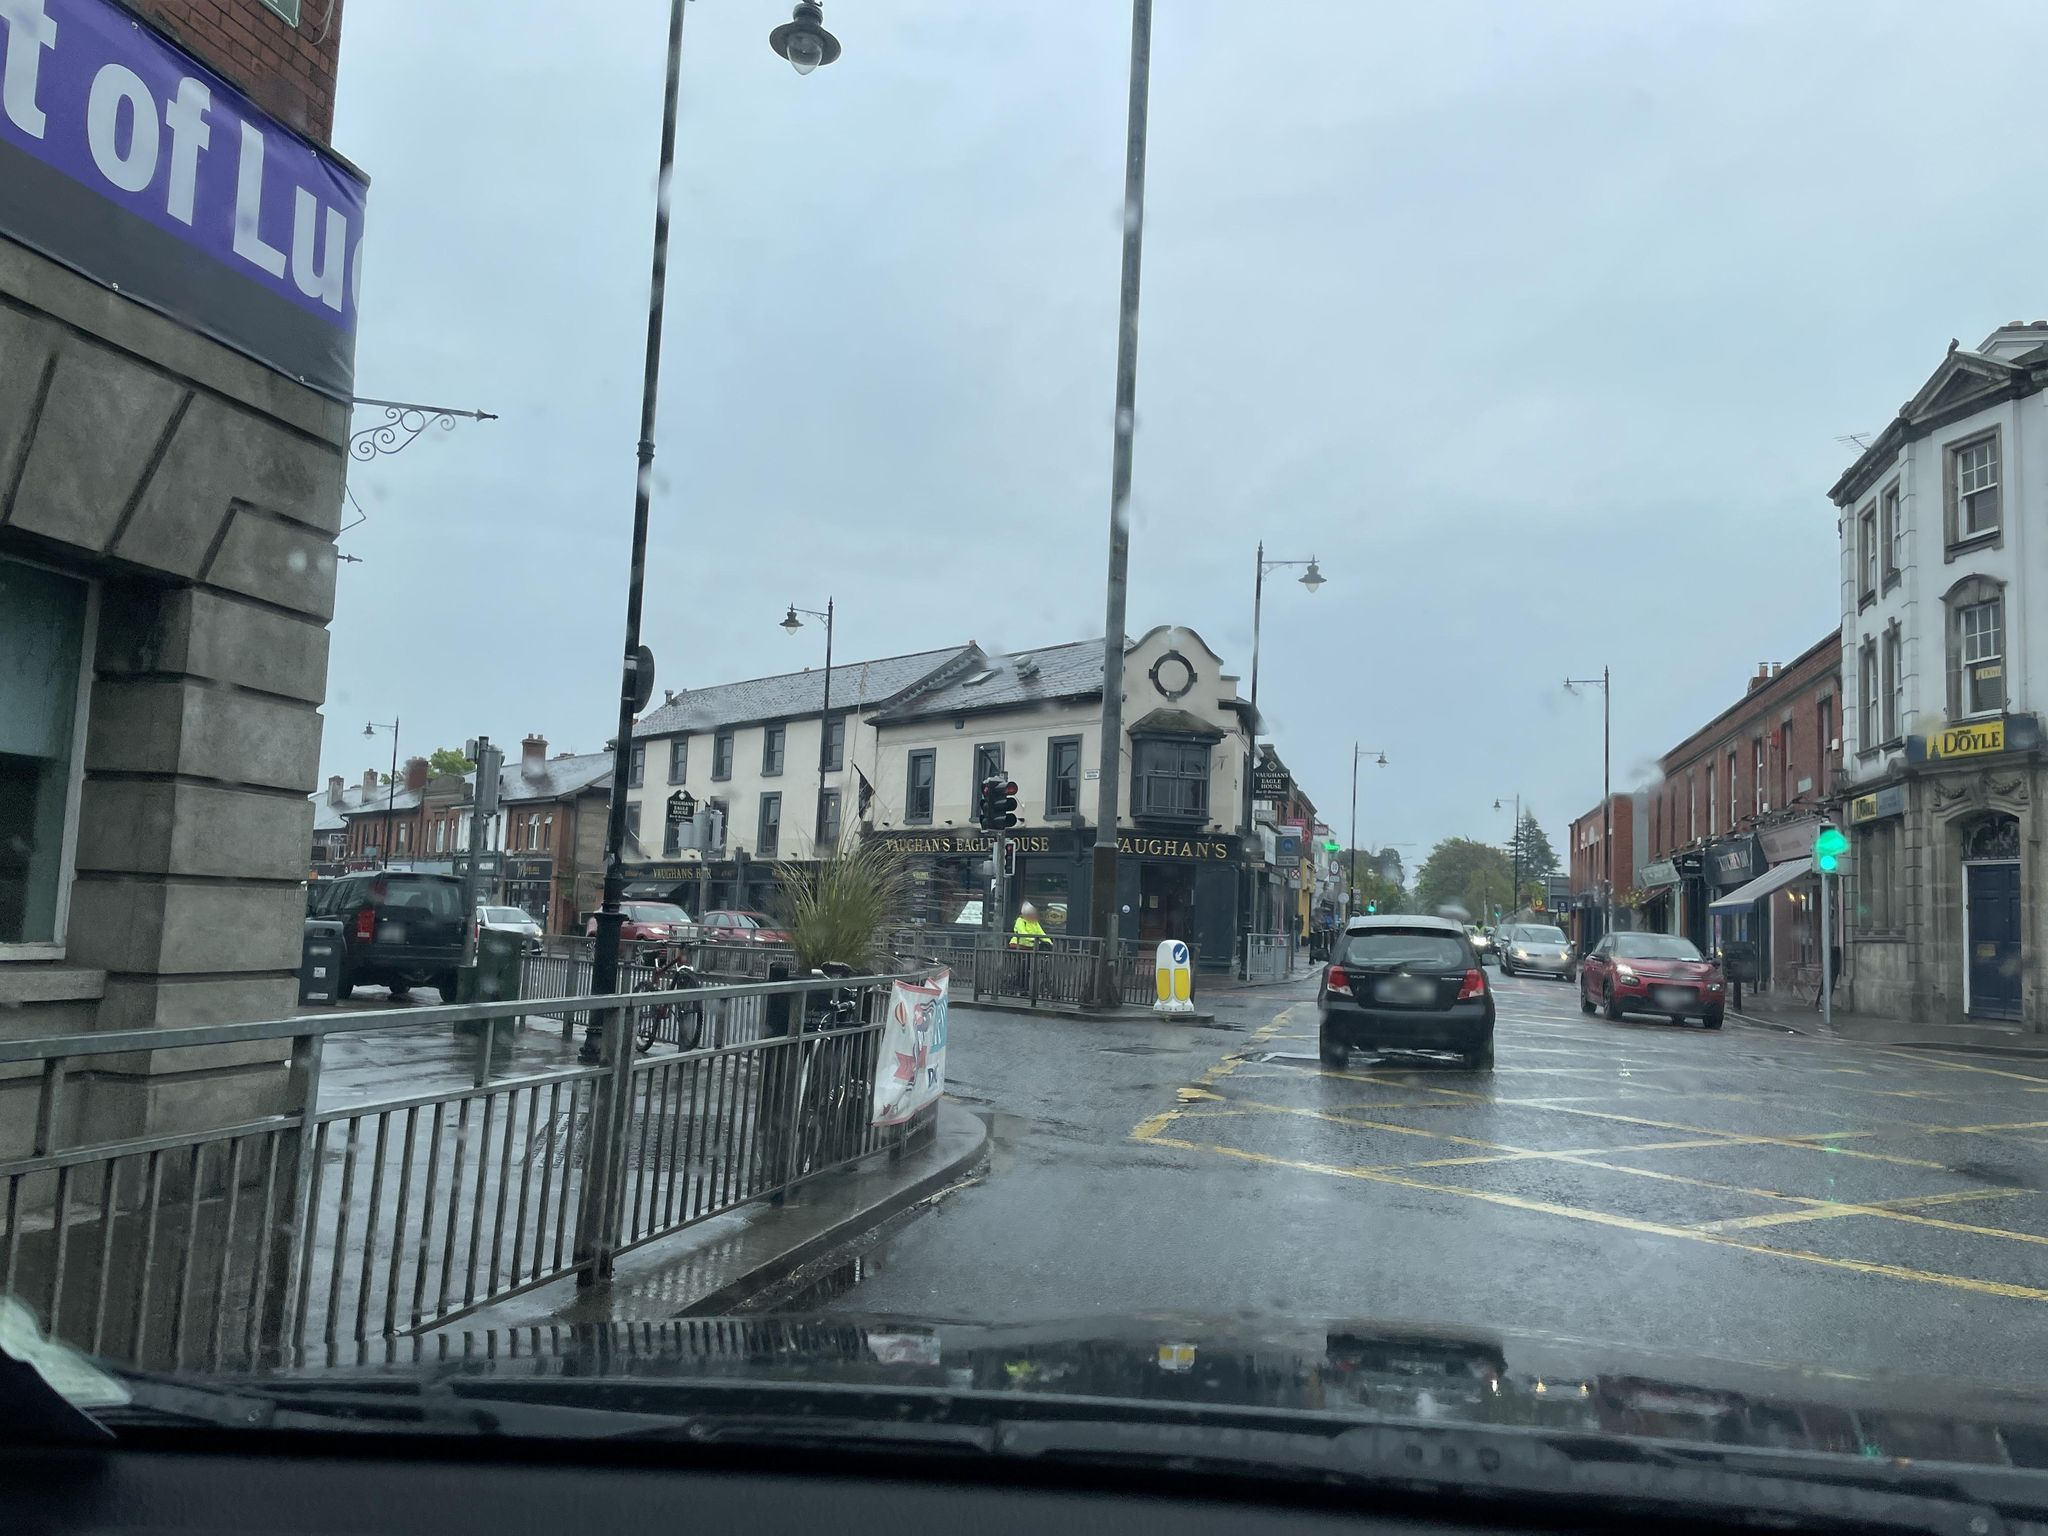vinyl banner: (2, 2, 384, 460), (861, 962, 971, 1149)
